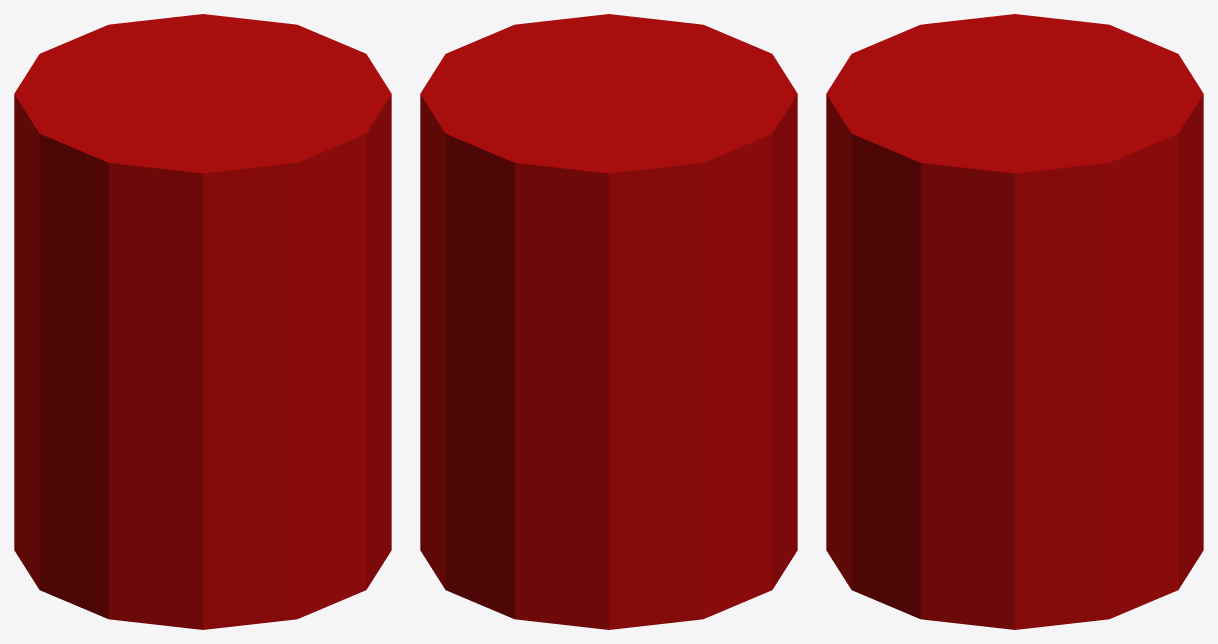
Rendered from c_barrel.fbx.
3 views of the same model, side by side, from view 1: azimuth 30°, elevation 25°; view 2: azimuth 150°, elevation 25°; view 3: azimuth 270°, elevation 25° (orthographic).
Visible parts, largest first — view 1: coll_barrel; view 2: coll_barrel; view 3: coll_barrel.
Part boxes in pixels (x1,y1,x2,y2): coll_barrel: (14, 14, 391, 629); coll_barrel: (420, 14, 797, 629); coll_barrel: (826, 14, 1203, 629).
Bounding box in the file's own units: 150 × 200 × 150.
